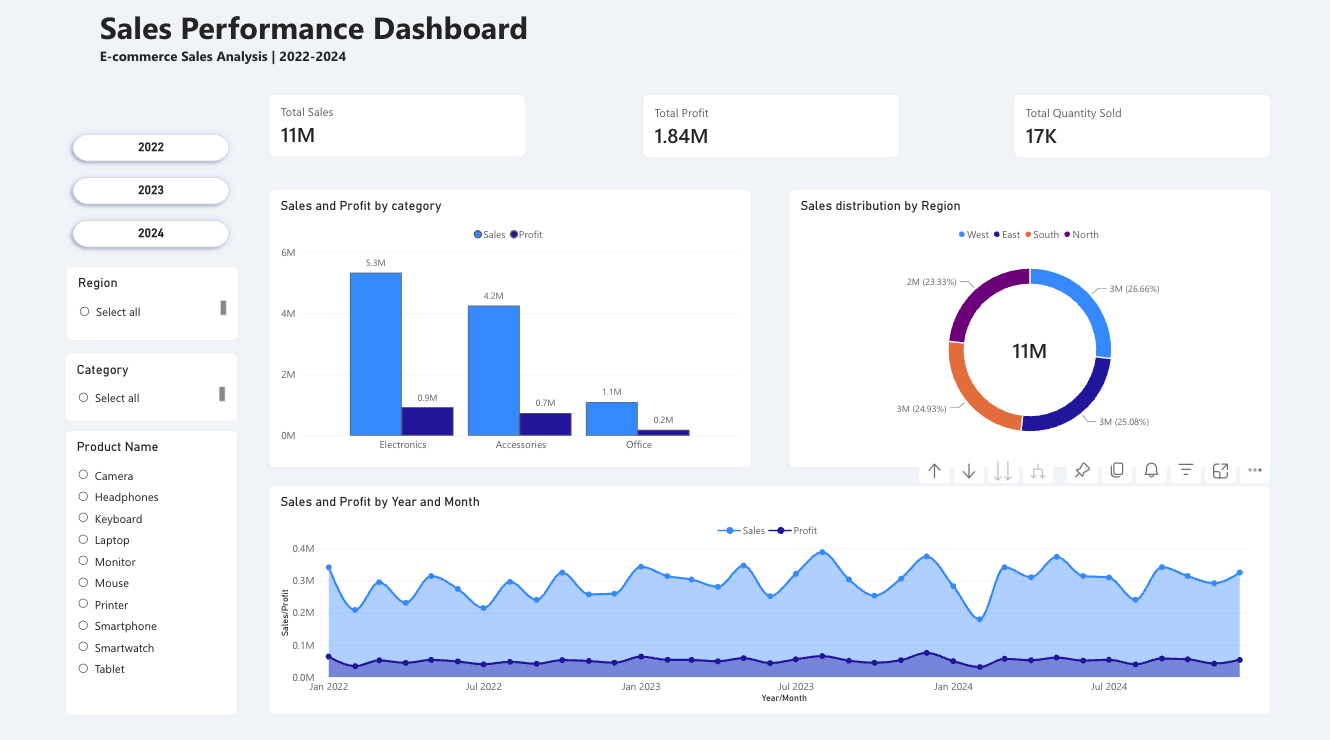

The dashboard page shown, as its layout file describes it:
{"tool":"powerbi","page":{"name":"Page 1","canvas":[1920,1080],"ordinal":0},"visuals":[{"type":"textbox","box":[152,30.4,1012.2,98.4],"z":0},{"type":"cardVisual","fields":{"Data":["Sum(ecommerce_sales_data_view.Sales)"]},"box":[388.1,152,360,89.4],"z":1000},{"type":"cardVisual","fields":{"Data":["Sum(ecommerce_sales_data_view.Profit)"]},"box":[910.3,152,360,90.3],"z":2000},{"type":"cardVisual","fields":{"Data":["Sum(ecommerce_sales_data_view.Quantity)"]},"box":[1428.9,152,360,90.3],"z":3000},{"type":"donutChart","title":"Sales distribution by Region","fields":{"Category":["ecommerce_sales_data_view.Region"],"Y":["Sum(ecommerce_sales_data_view.Sales)"]},"box":[1114.2,284.4,675,390],"z":4000},{"type":"clusteredColumnChart","title":"Sales and Profit by category","fields":{"Category":["ecommerce_sales_data_view.Category"],"Y":["Sum(ecommerce_sales_data_view.Sales)","Sum(ecommerce_sales_data_view.Profit)"]},"box":[388.1,284.4,675,390],"z":5000},{"type":"areaChart","fields":{"Category":["ecommerce_sales_data_view.Order Date.Variation.Date Hierarchy.Year","ecommerce_sales_data_view.Order Date.Variation.Date Hierarchy.Month"],"Y":["Sum(ecommerce_sales_data_view.Sales)","Sum(ecommerce_sales_data_view.Profit)"]},"box":[388.1,699.3,1400.3,321.9],"z":6000},{"type":"advancedSlicerVisual","fields":{"Values":["ecommerce_sales_data_view.year"]},"box":[103.7,196.7,241.4,180.6],"z":7000},{"type":"listSlicer","fields":{"Values":["ecommerce_sales_data_view.Product Name"]},"box":[103.7,622.4,241.4,398.8],"z":8000},{"type":"listSlicer","fields":{"Values":["ecommerce_sales_data_view.Region"]},"box":[105.5,393.4,241.4,103.7],"z":9000},{"type":"listSlicer","fields":{"Values":["ecommerce_sales_data_view.Category"]},"box":[103.7,513.3,241.4,96.6],"z":10000}]}

Visuals, with their boxes in screenshot pixels (x1, y1, x2, y2), scaled from the page's 1920x1080 canvas onto the 1330x740 screenshot:
textbox: [x1=105, y1=21, x2=806, y2=88]
cardVisual - Sum(ecommerce_sales_data_view.Sales): [x1=269, y1=104, x2=518, y2=165]
cardVisual - Sum(ecommerce_sales_data_view.Profit): [x1=631, y1=104, x2=880, y2=166]
cardVisual - Sum(ecommerce_sales_data_view.Quantity): [x1=990, y1=104, x2=1239, y2=166]
"Sales distribution by Region" donutChart: [x1=772, y1=195, x2=1239, y2=462]
"Sales and Profit by category" clusteredColumnChart: [x1=269, y1=195, x2=736, y2=462]
areaChart - ecommerce_sales_data_view.Order Date.Variation.Date Hierarchy.Year x ecommerce_sales_data_view.Order Date.Variation.Date Hierarchy.Month: [x1=269, y1=479, x2=1239, y2=700]
advancedSlicerVisual - ecommerce_sales_data_view.year: [x1=72, y1=135, x2=239, y2=259]
listSlicer - ecommerce_sales_data_view.Product Name: [x1=72, y1=426, x2=239, y2=700]
listSlicer - ecommerce_sales_data_view.Region: [x1=73, y1=270, x2=240, y2=341]
listSlicer - ecommerce_sales_data_view.Category: [x1=72, y1=352, x2=239, y2=418]
